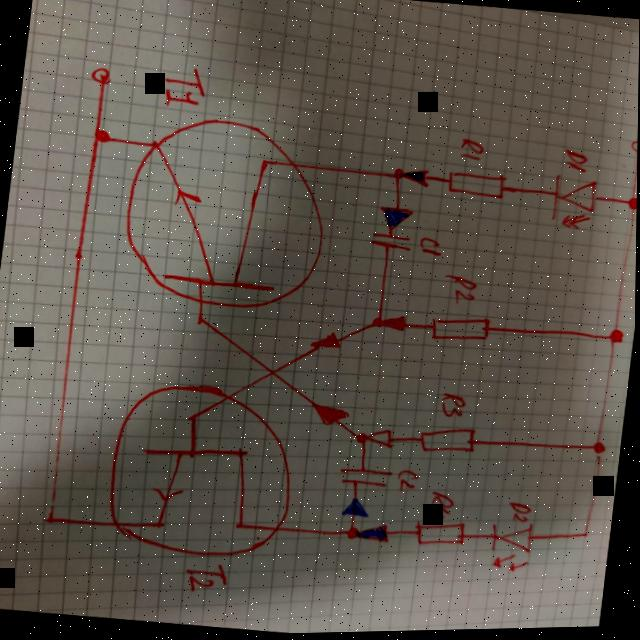capacitor: (339, 464, 395, 491), (370, 228, 414, 255)
crossover: (266, 365, 283, 379)
diode: (487, 517, 542, 577), (550, 173, 602, 234)
junction: (92, 126, 115, 145), (608, 328, 628, 347), (192, 312, 213, 330), (347, 523, 365, 542), (354, 430, 371, 446), (594, 442, 609, 456), (625, 196, 638, 212), (374, 316, 389, 329), (393, 168, 406, 180), (45, 513, 59, 523), (582, 531, 593, 540)
resistor: (419, 423, 480, 459), (431, 313, 494, 346), (447, 169, 509, 202), (415, 517, 471, 550)
terminal: (90, 65, 115, 85), (629, 140, 638, 158)
text: (158, 62, 213, 112), (186, 557, 235, 597), (443, 274, 480, 308), (428, 490, 459, 521), (440, 391, 471, 421), (563, 148, 592, 176), (459, 136, 487, 163), (396, 467, 424, 494), (509, 501, 536, 525), (419, 236, 446, 258)
transistor: (114, 106, 341, 320), (100, 372, 307, 567)
